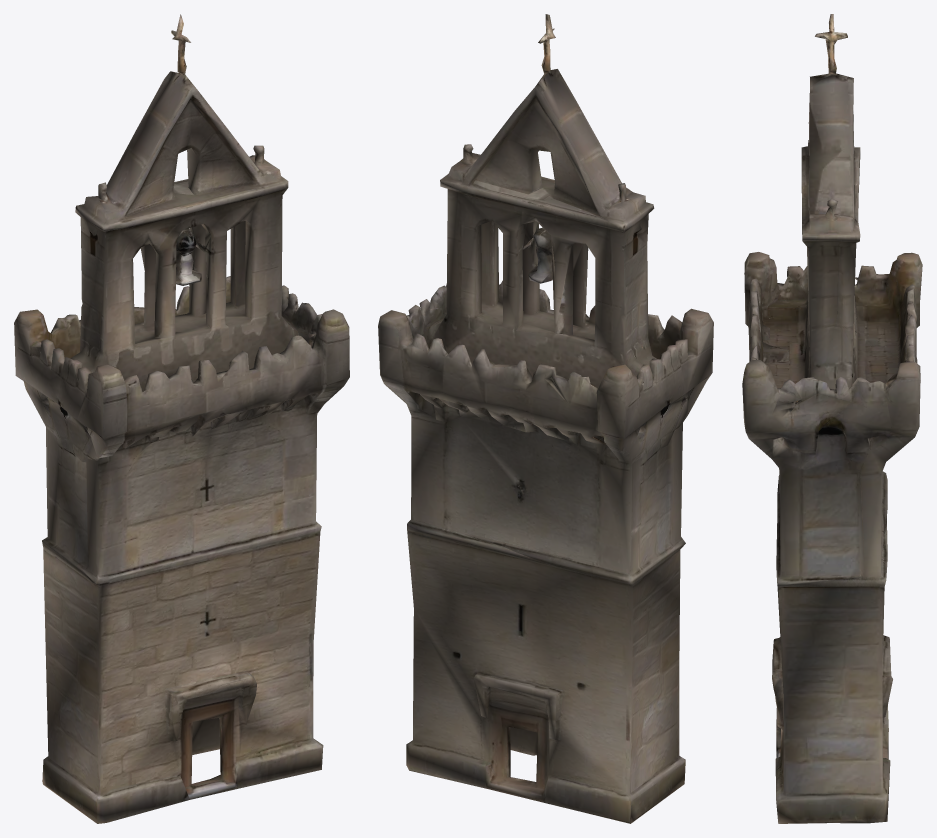
Rendered from tower-slim.glb.
3 renders of one model, left to right at view 1: azimuth 30°, elevation 25°; view 2: azimuth 150°, elevation 25°; view 3: azimuth 270°, elevation 25°, orthographic.
Parts seen in each view (by area): view 1: Mesh1.0; view 2: Mesh1.0; view 3: Mesh1.0.
Boxes of the visible parts, x1,y1,x2,y2 form: Mesh1.0: [14, 14, 349, 823]; Mesh1.0: [378, 14, 713, 823]; Mesh1.0: [742, 14, 922, 823].
Bounding box in the file's own units: 0.6823 × 1.99 × 0.431.
Materials: 1 (1 with a texture image).
